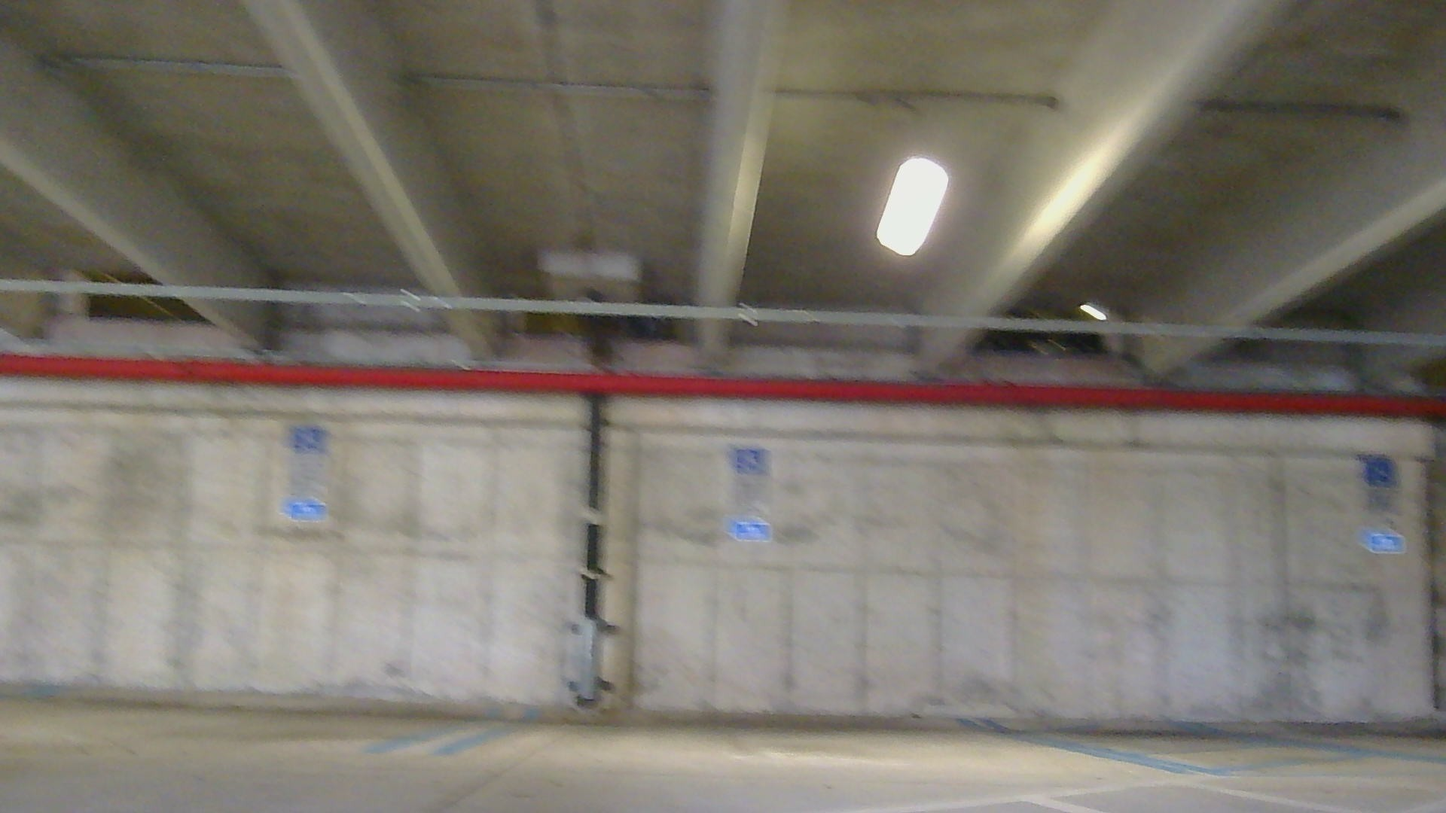empty_spot: (424, 629, 1204, 768), (0, 614, 480, 753), (1200, 652, 1446, 768)
